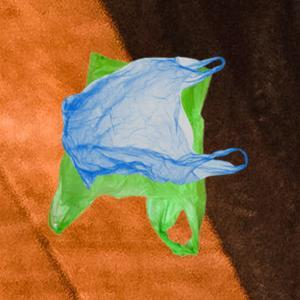plastic_bag: (61, 51, 250, 194)
